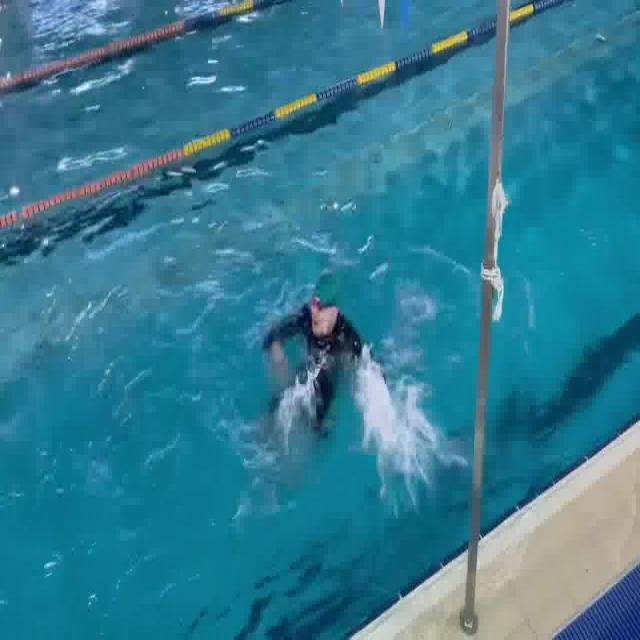Drowning: (256, 264, 385, 462)
